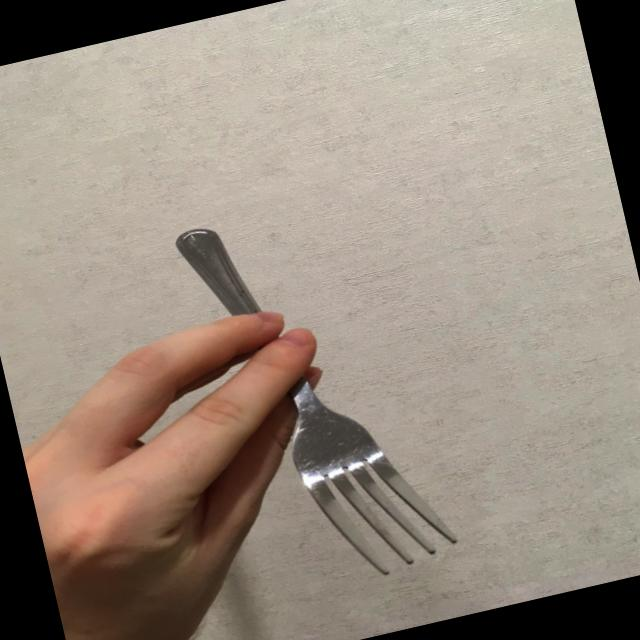fork: (173, 187, 464, 608)
